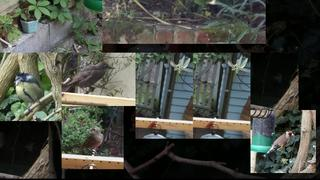blue tit: (14, 73, 43, 113)
goldfinch: (262, 130, 296, 159)
starling: (64, 61, 116, 94), (76, 126, 104, 156)
